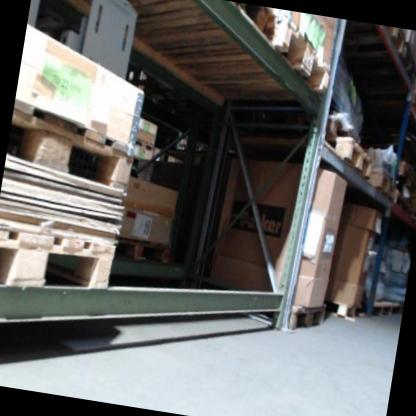pallet: (3, 98, 141, 192), (0, 226, 115, 305), (256, 7, 339, 95), (320, 131, 376, 179), (112, 234, 172, 266), (287, 298, 326, 334), (364, 163, 398, 202), (323, 297, 362, 321), (397, 40, 416, 85), (133, 137, 155, 153), (408, 93, 416, 120)
